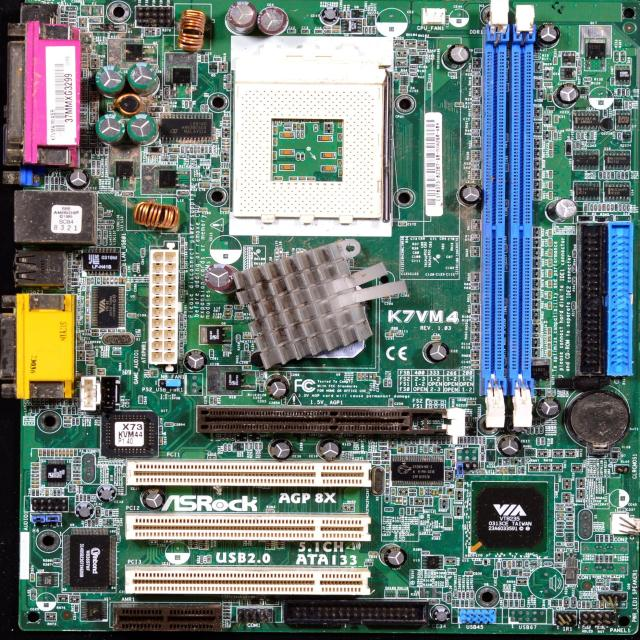Capacitor Jumper: (234, 304, 243, 309), (31, 473, 40, 478), (357, 373, 362, 381), (383, 378, 388, 386), (138, 396, 143, 404), (158, 437, 163, 445), (503, 466, 508, 474), (427, 82, 432, 90), (548, 249, 553, 257), (382, 298, 391, 302), (235, 316, 244, 320), (243, 335, 252, 339), (243, 366, 252, 370), (467, 400, 476, 404), (64, 416, 73, 420), (612, 448, 621, 452), (556, 507, 565, 511), (556, 513, 565, 517), (149, 540, 158, 544), (243, 540, 252, 544), (556, 548, 565, 552), (474, 560, 483, 564), (455, 102, 464, 106), (320, 136, 329, 140), (586, 140, 595, 144), (398, 222, 407, 226), (493, 570, 498, 577), (30, 574, 35, 581), (509, 600, 514, 607), (460, 600, 465, 607), (44, 183, 49, 190), (224, 315, 232, 319), (432, 336, 440, 340), (154, 369, 158, 377), (150, 370, 154, 378), (376, 376, 380, 384), (260, 384, 264, 392), (165, 422, 173, 426), (159, 426, 163, 434), (38, 448, 42, 456), (208, 455, 216, 459), (498, 458, 502, 466), (521, 466, 525, 474), (508, 466, 512, 474), (512, 466, 516, 474), (73, 480, 81, 484), (31, 480, 39, 484), (600, 534, 604, 542), (596, 534, 600, 542), (605, 534, 609, 542), (609, 534, 613, 542), (368, 552, 376, 556), (605, 555, 609, 563), (207, 555, 211, 563), (366, 562, 374, 566), (508, 560, 512, 568), (611, 578, 619, 582), (520, 599, 524, 607), (504, 599, 508, 607), (582, 601, 586, 609), (586, 601, 590, 609), (554, 56, 558, 64), (222, 612, 230, 616), (448, 72, 456, 76), (394, 72, 398, 80), (610, 77, 614, 85), (617, 88, 621, 96), (548, 94, 552, 102), (603, 109, 607, 117), (554, 115, 558, 123), (282, 133, 290, 137), (554, 132, 558, 140), (285, 149, 293, 153), (549, 149, 553, 157), (324, 153, 332, 157), (283, 165, 291, 169), (549, 170, 553, 178), (445, 15, 449, 23), (549, 192, 553, 200), (602, 204, 606, 212), (548, 238, 552, 246), (224, 312, 231, 316), (547, 350, 551, 357), (472, 365, 479, 369), (287, 372, 291, 379), (257, 380, 264, 384), (510, 458, 514, 465), (32, 466, 39, 470), (106, 518, 110, 525), (567, 548, 574, 552), (452, 599, 456, 606), (470, 600, 474, 607), (74, 605, 78, 612), (223, 616, 230, 620), (625, 172, 629, 179), (549, 181, 553, 188), (548, 280, 552, 287), (385, 333, 394, 336), (31, 470, 40, 473), (164, 540, 173, 543), (543, 83, 552, 86), (399, 89, 408, 92), (546, 107, 555, 110), (547, 127, 556, 130), (548, 302, 551, 310), (316, 30, 322, 34), (210, 350, 213, 358), (471, 361, 479, 364), (282, 399, 286, 405), (64, 420, 72, 423), (500, 466, 503, 474), (533, 47, 541, 50), (32, 484, 38, 488), (110, 518, 113, 526), (599, 556, 603, 562), (609, 556, 613, 562), (448, 569, 456, 572), (519, 568, 522, 576), (465, 572, 473, 575), (223, 599, 231, 602), (514, 600, 518, 606), (222, 603, 230, 606), (600, 602, 604, 608), (592, 601, 595, 609), (223, 606, 231, 609), (223, 609, 231, 612), (472, 116, 480, 119), (339, 120, 342, 128), (273, 128, 277, 134), (577, 140, 580, 148), (549, 142, 553, 148), (338, 158, 342, 164), (199, 184, 207, 187), (584, 204, 587, 212), (98, 219, 104, 223), (549, 229, 552, 237), (549, 259, 552, 267), (533, 320, 540, 323), (548, 335, 551, 342), (373, 373, 376, 380), (210, 397, 213, 404), (379, 439, 386, 442), (51, 449, 54, 456), (43, 449, 46, 456), (47, 449, 50, 456), (62, 449, 65, 456), (66, 450, 69, 457), (32, 463, 39, 466), (555, 484, 558, 491), (46, 489, 49, 496), (32, 489, 35, 496), (36, 489, 39, 496), (385, 508, 392, 511), (596, 555, 599, 562), (205, 55, 208, 62), (240, 599, 247, 602), (555, 600, 558, 607), (465, 600, 468, 607), (164, 146, 167, 153), (339, 169, 342, 176), (549, 270, 552, 277), (424, 437, 428, 442), (378, 444, 388, 446), (424, 447, 428, 452), (291, 176, 296, 180), (200, 207, 205, 211), (288, 30, 294, 33), (130, 314, 136, 317), (548, 328, 551, 334), (302, 434, 305, 440), (438, 437, 441, 443), (70, 450, 73, 456), (55, 450, 58, 456), (59, 450, 62, 456), (386, 466, 389, 472), (478, 470, 484, 473), (392, 497, 395, 503), (416, 507, 422, 510), (232, 599, 238, 602), (456, 600, 459, 606), (559, 600, 562, 606), (293, 123, 296, 129), (297, 123, 300, 129), (324, 167, 330, 170), (276, 177, 282, 180), (221, 208, 227, 211), (98, 230, 101, 236), (253, 238, 256, 244), (141, 250, 144, 256), (549, 292, 552, 298), (332, 434, 340, 436), (32, 478, 40, 480), (358, 435, 361, 440), (412, 437, 415, 442), (402, 438, 405, 443), (103, 278, 106, 283), (126, 283, 129, 288), (320, 434, 327, 436), (407, 507, 409, 514), (339, 147, 341, 154), (98, 161, 100, 168), (506, 199, 508, 206), (105, 227, 112, 229), (182, 238, 184, 245), (506, 264, 508, 271), (181, 295, 183, 301), (180, 314, 182, 320), (93, 329, 97, 332), (77, 334, 80, 338), (548, 343, 550, 349), (114, 351, 118, 354), (180, 358, 182, 364), (382, 434, 388, 436), (363, 434, 365, 440), (368, 436, 371, 440), (408, 437, 410, 443), (434, 437, 436, 443), (447, 437, 449, 443), (380, 448, 386, 450), (374, 462, 380, 464), (74, 474, 80, 476), (396, 498, 398, 504), (552, 600, 554, 606), (229, 84, 231, 90), (167, 106, 169, 112), (338, 134, 340, 140), (340, 11, 342, 17), (274, 138, 276, 144), (223, 142, 229, 144), (187, 148, 190, 152), (273, 152, 275, 158), (61, 15, 67, 17), (308, 178, 314, 180), (203, 178, 209, 180), (52, 184, 54, 190), (61, 18, 67, 20), (181, 246, 183, 252), (74, 262, 80, 264), (181, 274, 183, 280), (111, 278, 114, 282), (181, 282, 183, 288), (86, 316, 88, 321), (181, 332, 183, 337), (87, 362, 92, 364), (420, 438, 422, 443), (444, 438, 446, 443), (472, 438, 474, 443), (483, 438, 485, 443), (402, 447, 404, 452), (374, 454, 379, 456), (368, 454, 370, 459), (384, 462, 389, 464), (420, 489, 422, 494), (401, 498, 403, 503), (426, 499, 428, 504), (81, 62, 86, 64), (194, 146, 196, 151), (506, 165, 508, 170), (364, 20, 366, 25), (505, 246, 507, 251), (181, 254, 183, 259), (182, 262, 184, 267), (334, 27, 339, 29), (119, 278, 121, 283), (87, 293, 89, 298), (59, 187, 62, 190), (180, 348, 182, 352), (88, 354, 92, 356), (394, 434, 398, 436), (392, 490, 394, 494), (436, 491, 438, 495), (82, 54, 86, 56), (81, 58, 85, 60), (216, 59, 220, 61), (84, 65, 88, 67), (224, 146, 228, 148), (172, 148, 176, 150), (172, 159, 176, 161), (108, 220, 112, 222), (98, 226, 102, 228), (276, 250, 278, 254), (283, 253, 285, 257), (122, 278, 124, 282), (302, 31, 309, 32), (434, 446, 435, 453), (274, 164, 275, 171), (86, 302, 88, 305), (180, 341, 182, 344), (99, 372, 102, 374), (430, 437, 431, 443), (417, 437, 418, 443), (465, 437, 466, 443), (399, 446, 400, 452), (374, 458, 380, 459), (412, 508, 413, 514), (301, 124, 302, 130), (93, 161, 94, 167), (214, 169, 217, 171), (214, 183, 217, 185), (63, 187, 65, 190), (61, 23, 67, 24), (88, 279, 89, 285), (181, 323, 182, 328), (87, 358, 92, 359), (468, 438, 469, 443), (461, 438, 462, 443), (75, 461, 80, 462), (456, 482, 461, 483), (387, 481, 388, 486), (405, 498, 406, 503), (299, 177, 304, 178), (57, 186, 58, 191), (74, 471, 78, 472), (448, 492, 452, 493), (430, 499, 431, 503), (213, 137, 214, 141), (223, 173, 227, 174), (104, 231, 105, 235), (333, 31, 336, 32), (102, 330, 105, 331), (100, 369, 103, 370), (506, 300, 506, 307), (477, 438, 477, 442), (480, 438, 480, 443), (74, 465, 79, 465), (434, 492, 434, 496), (402, 508, 402, 516)
Connector: (486, 46, 501, 365), (513, 49, 527, 377), (140, 571, 347, 590), (138, 468, 354, 484), (138, 522, 352, 538), (422, 8, 445, 25)
IC: (480, 491, 541, 546), (64, 528, 115, 592), (94, 288, 122, 326), (394, 459, 438, 482), (164, 116, 208, 139), (41, 459, 72, 484), (573, 110, 599, 131), (604, 182, 630, 202), (573, 150, 598, 170), (605, 150, 630, 170), (574, 182, 599, 201), (82, 602, 106, 620), (36, 572, 58, 587), (86, 255, 110, 268), (616, 110, 631, 130), (422, 556, 443, 570), (342, 21, 360, 31), (613, 98, 623, 109)
Resistor Jumper: (95, 506, 101, 517), (614, 51, 620, 62), (563, 597, 569, 607), (570, 597, 576, 607), (620, 51, 625, 62), (222, 348, 231, 352), (609, 458, 618, 462), (556, 521, 565, 525), (421, 550, 430, 554), (273, 118, 277, 127), (64, 423, 71, 428), (235, 312, 243, 316), (471, 314, 479, 318), (471, 318, 479, 322), (390, 329, 398, 333), (396, 333, 404, 337), (223, 344, 231, 348), (72, 417, 76, 425), (539, 426, 543, 434), (530, 426, 534, 434), (496, 466, 500, 474), (409, 48, 417, 52), (565, 503, 573, 507), (102, 518, 106, 526), (556, 525, 564, 529), (566, 525, 574, 529), (556, 542, 564, 546), (565, 542, 573, 546), (544, 562, 552, 566), (596, 578, 604, 582), (472, 72, 480, 76), (410, 72, 418, 76), (584, 77, 592, 81), (472, 129, 480, 133), (572, 140, 576, 148), (471, 161, 479, 165), (618, 204, 622, 212), (472, 342, 479, 346), (260, 371, 264, 378), (256, 371, 260, 378), (388, 379, 392, 386), (552, 389, 556, 396), (547, 389, 551, 396), (541, 418, 545, 425), (535, 426, 539, 433), (72, 485, 76, 492), (68, 485, 72, 492), (105, 509, 109, 516), (515, 560, 519, 567), (512, 560, 516, 567), (525, 560, 529, 567), (502, 569, 506, 576), (606, 579, 610, 586), (578, 601, 582, 608), (578, 60, 582, 67), (410, 68, 417, 72), (473, 68, 480, 72), (626, 88, 630, 95), (622, 88, 626, 95), (590, 132, 594, 139), (610, 172, 614, 179), (598, 172, 602, 179), (622, 204, 626, 211), (594, 204, 598, 211), (626, 204, 630, 211), (572, 265, 576, 272), (472, 286, 479, 290), (409, 65, 418, 68), (572, 302, 575, 310), (224, 309, 232, 312), (76, 418, 79, 426), (540, 438, 544, 444), (428, 489, 432, 495), (53, 490, 57, 496), (57, 490, 61, 496), (534, 51, 540, 55), (418, 52, 426, 55), (408, 52, 416, 55), (117, 534, 120, 542), (200, 556, 203, 564), (53, 559, 61, 562), (530, 561, 538, 564), (530, 565, 538, 568), (511, 569, 519, 572), (523, 573, 531, 576), (511, 573, 519, 576), (200, 55, 204, 61), (596, 583, 604, 586), (454, 590, 457, 598), (513, 592, 517, 598), (509, 592, 513, 598), (504, 593, 508, 599), (240, 602, 248, 605), (596, 601, 599, 609), (578, 67, 581, 75), (400, 72, 408, 75), (400, 85, 408, 88), (472, 101, 480, 104), (624, 102, 628, 108), (60, 177, 64, 183), (606, 204, 610, 210), (610, 204, 614, 210), (590, 205, 594, 211), (598, 205, 602, 211), (472, 282, 478, 286), (237, 335, 240, 342), (245, 343, 248, 350), (473, 346, 480, 349), (366, 373, 369, 380), (362, 373, 365, 380), (214, 397, 217, 404), (537, 418, 540, 425), (537, 438, 540, 445), (74, 449, 77, 456), (503, 458, 506, 465), (522, 458, 525, 465), (506, 458, 509, 465), (263, 486, 270, 489), (80, 494, 83, 501), (76, 494, 79, 501), (109, 509, 112, 516), (566, 517, 573, 520), (92, 519, 95, 526), (566, 522, 573, 525), (556, 529, 563, 532), (556, 533, 563, 536), (434, 533, 441, 536), (519, 560, 522, 567), (503, 560, 506, 567), (497, 562, 500, 569), (523, 569, 530, 572), (506, 569, 509, 576), (518, 592, 521, 599), (443, 594, 446, 601), (584, 82, 591, 85), (472, 97, 479, 100), (581, 132, 584, 139), (618, 132, 621, 139), (472, 235, 479, 238), (472, 238, 479, 241), (105, 211, 109, 216), (532, 418, 535, 424), (96, 519, 99, 525), (88, 520, 91, 526), (54, 563, 60, 566), (534, 56, 540, 59), (602, 587, 608, 590), (471, 592, 474, 598), (458, 592, 461, 598), (462, 592, 465, 598), (466, 592, 469, 598), (629, 102, 632, 108), (222, 124, 228, 127), (284, 128, 290, 131), (472, 133, 478, 136), (577, 133, 580, 139), (222, 138, 228, 141), (209, 146, 212, 152), (223, 148, 229, 151), (603, 172, 606, 178), (607, 172, 610, 178), (573, 251, 576, 257), (115, 278, 118, 284), (518, 466, 520, 474), (556, 504, 564, 506), (556, 518, 564, 520), (622, 171, 624, 179), (185, 102, 188, 107), (201, 106, 204, 111), (314, 126, 317, 131), (163, 158, 168, 161), (46, 177, 49, 182), (125, 193, 130, 196), (86, 344, 93, 346), (370, 373, 372, 380), (409, 490, 416, 492), (472, 166, 479, 168), (618, 172, 620, 179), (573, 277, 575, 284), (527, 428, 529, 434), (260, 443, 262, 449), (255, 443, 257, 449), (224, 445, 226, 451), (470, 472, 476, 474), (425, 488, 427, 494), (228, 74, 230, 80), (189, 102, 192, 106), (207, 106, 209, 112), (225, 120, 229, 123), (278, 120, 280, 126), (205, 146, 207, 152), (202, 148, 204, 154), (170, 155, 176, 157), (70, 15, 74, 18), (70, 22, 74, 25), (73, 282, 77, 285), (366, 28, 368, 33), (326, 30, 331, 32), (158, 30, 160, 35), (118, 329, 123, 331), (93, 333, 98, 335), (232, 435, 234, 440), (74, 457, 79, 459), (74, 478, 79, 480), (88, 495, 90, 500), (224, 117, 229, 119), (70, 12, 75, 14), (182, 146, 184, 151), (181, 156, 186, 158), (55, 178, 57, 183), (73, 266, 78, 268), (369, 27, 371, 32), (109, 329, 112, 332), (89, 350, 92, 353), (85, 347, 89, 349), (348, 438, 352, 440), (246, 444, 248, 448), (250, 444, 252, 448), (75, 466, 79, 468), (410, 494, 414, 496), (84, 496, 86, 500), (344, 12, 346, 16), (198, 148, 200, 152), (92, 170, 94, 174), (72, 269, 76, 271), (73, 278, 77, 280), (92, 279, 94, 283), (82, 29, 85, 31), (229, 444, 230, 450), (164, 101, 167, 103), (214, 128, 215, 134), (97, 170, 99, 173), (52, 177, 53, 183), (71, 18, 74, 20), (98, 279, 100, 282), (373, 28, 374, 33), (223, 434, 224, 439), (348, 12, 349, 17), (191, 146, 192, 151), (325, 26, 330, 27), (286, 125, 290, 126), (108, 278, 108, 282)
Transistor: (222, 372, 255, 391), (586, 40, 605, 70), (200, 326, 231, 344), (532, 359, 550, 387), (615, 65, 629, 85), (175, 70, 190, 86), (128, 46, 143, 60), (560, 67, 576, 80), (562, 52, 576, 66), (162, 171, 175, 186), (115, 162, 129, 175), (266, 596, 279, 605), (610, 582, 622, 591), (578, 86, 590, 95), (534, 388, 546, 396), (622, 132, 631, 142), (411, 57, 421, 64), (354, 10, 360, 17), (251, 434, 257, 440), (236, 444, 242, 450), (211, 64, 215, 72), (239, 435, 245, 440)
